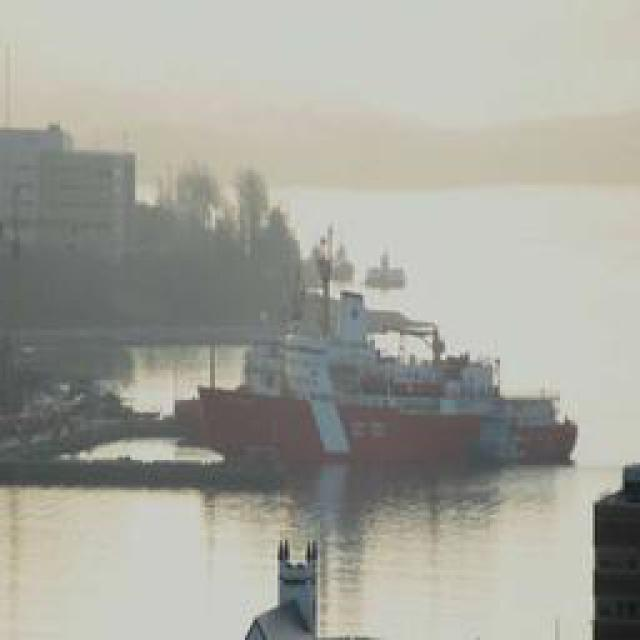Ship: (173, 226, 594, 478)
